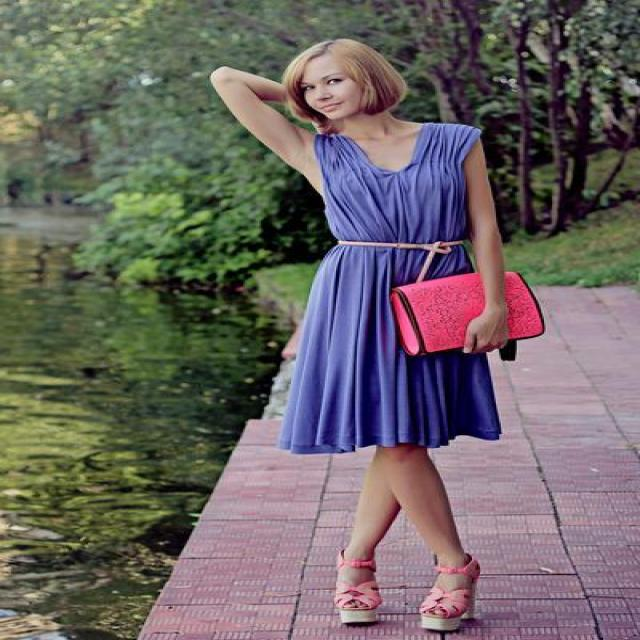bag: (392, 269, 544, 357)
dress: (264, 118, 514, 454)
shoe: (333, 584, 488, 639)
